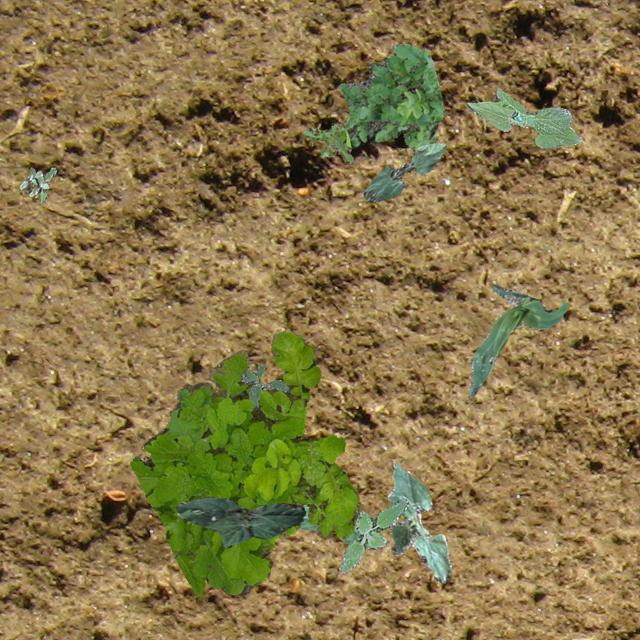crop: (468, 284, 568, 398), (386, 461, 451, 582), (466, 86, 582, 148), (173, 496, 304, 548), (362, 142, 446, 202), (298, 503, 378, 548)
weed: (128, 330, 360, 596), (338, 42, 444, 154), (338, 498, 408, 572), (302, 120, 352, 163), (240, 364, 288, 406), (18, 166, 56, 202)
